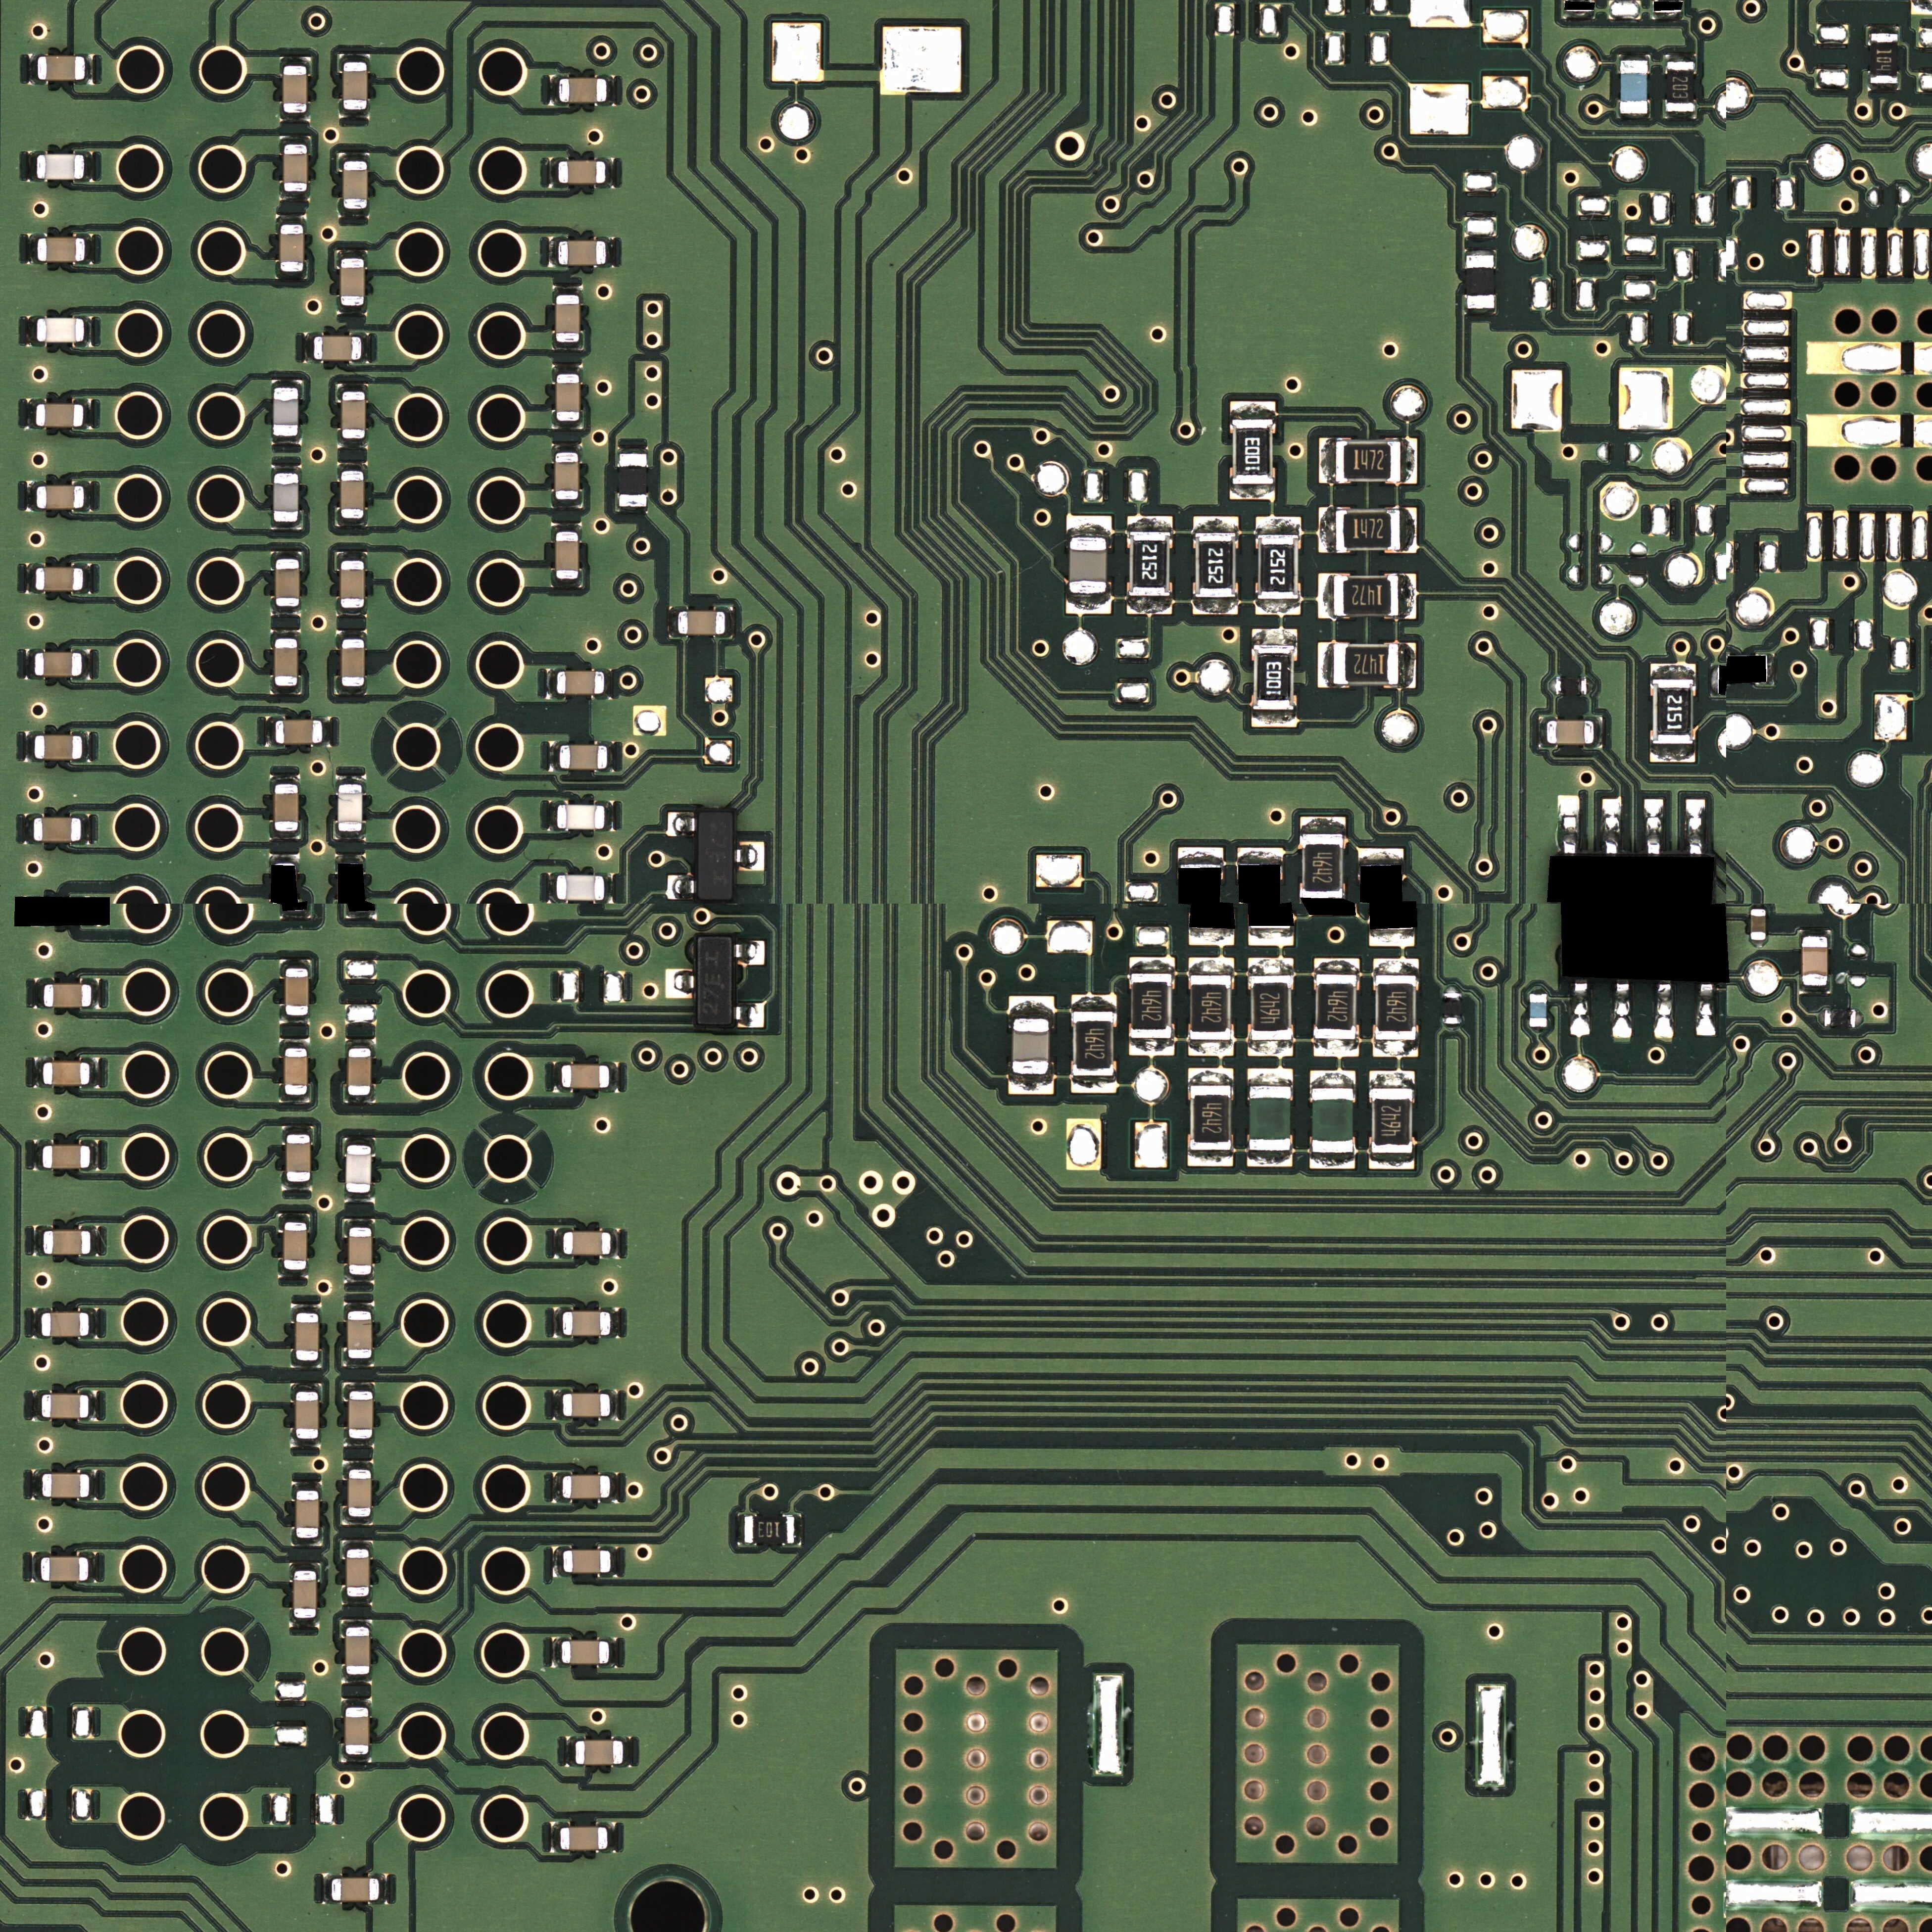Package: (697, 810, 734, 901), (697, 936, 732, 1026), (1336, 441, 1401, 483), (1231, 419, 1274, 485), (1311, 1088, 1353, 1154), (1249, 1086, 1292, 1150), (1072, 1012, 1115, 1076), (1315, 975, 1357, 1039), (1652, 679, 1693, 745), (1371, 1088, 1412, 1154), (1332, 646, 1399, 685), (1253, 646, 1293, 709), (1129, 533, 1169, 596), (1251, 977, 1292, 1040), (1189, 977, 1230, 1040), (1131, 975, 1171, 1039), (1191, 1086, 1231, 1150), (1334, 511, 1399, 550), (1258, 536, 1297, 600), (1334, 577, 1398, 616), (1196, 534, 1235, 598), (1376, 977, 1415, 1040), (1302, 835, 1341, 897), (1069, 538, 1108, 594), (1012, 1019, 1049, 1074), (617, 453, 648, 506), (1465, 255, 1495, 308), (1621, 60, 1647, 113), (745, 1516, 794, 1545), (1870, 34, 1898, 83), (1667, 62, 1695, 111), (34, 734, 83, 761), (272, 472, 299, 522), (272, 387, 299, 435), (37, 154, 85, 180), (345, 1145, 372, 1192), (556, 876, 605, 901), (41, 1313, 90, 1338), (1803, 936, 1828, 985), (35, 403, 83, 428), (340, 471, 364, 518), (559, 78, 607, 103), (341, 391, 366, 439), (559, 745, 607, 770), (678, 610, 725, 635), (557, 671, 605, 695), (557, 805, 605, 830), (37, 57, 85, 81), (37, 237, 85, 262), (340, 258, 364, 306), (274, 720, 322, 745), (35, 485, 83, 510), (283, 65, 308, 113), (556, 373, 580, 421), (34, 817, 81, 842), (343, 161, 368, 209), (280, 225, 304, 272), (340, 561, 364, 609), (557, 241, 605, 265), (313, 336, 361, 361), (338, 784, 363, 832), (274, 784, 299, 832), (343, 62, 368, 110), (42, 1062, 90, 1086), (347, 1311, 372, 1359), (44, 984, 92, 1008), (575, 1741, 623, 1766), (41, 1394, 88, 1419), (287, 1134, 311, 1182), (283, 1223, 308, 1270), (42, 1145, 90, 1169), (349, 1391, 373, 1438), (41, 1557, 88, 1582), (561, 1065, 609, 1090), (563, 1311, 610, 1336), (559, 1826, 607, 1851), (42, 1230, 90, 1254), (331, 1877, 379, 1902), (563, 1392, 610, 1417), (563, 1231, 610, 1256), (561, 1640, 609, 1665), (1546, 720, 1594, 745), (37, 318, 83, 343), (556, 295, 580, 341), (283, 145, 308, 191), (42, 1474, 88, 1499), (345, 1628, 370, 1674), (345, 1707, 370, 1753), (276, 559, 299, 607), (557, 161, 605, 184), (35, 568, 83, 591), (341, 639, 364, 686), (34, 653, 81, 676), (274, 639, 297, 686), (294, 1571, 317, 1619), (285, 968, 308, 1016), (563, 1550, 610, 1573), (563, 1476, 610, 1499), (295, 1313, 318, 1361), (556, 533, 579, 579), (556, 453, 579, 499), (349, 1470, 372, 1516), (349, 1049, 372, 1095), (285, 1049, 308, 1095), (347, 1550, 370, 1596), (295, 1491, 318, 1537), (349, 1228, 372, 1274), (295, 1392, 318, 1438), (1530, 993, 1548, 1028), (1555, 678, 1587, 695), (1824, 1010, 1856, 1028), (1444, 993, 1461, 1024), (1752, 909, 1766, 939)
Solder: (1612, 980, 1631, 1039), (1654, 982, 1674, 1040), (1559, 796, 1578, 853), (1644, 798, 1663, 855), (1601, 798, 1621, 853), (1686, 800, 1706, 855), (1571, 982, 1591, 1035), (1697, 982, 1716, 1035), (1008, 996, 1054, 1017), (1065, 594, 1111, 614), (1008, 1076, 1054, 1095), (1067, 517, 1111, 536), (665, 970, 695, 998), (1070, 1076, 1118, 1093), (1649, 745, 1697, 763), (1230, 402, 1276, 419), (1127, 596, 1173, 614), (1192, 598, 1238, 616), (1399, 573, 1417, 619), (1247, 957, 1293, 975), (1189, 957, 1235, 975), (1187, 1150, 1233, 1168), (1129, 1039, 1175, 1056), (1247, 1069, 1293, 1086), (1189, 929, 1235, 947), (1359, 847, 1405, 865), (736, 842, 764, 870), (1256, 517, 1300, 534), (1311, 1070, 1355, 1088), (1249, 929, 1293, 947), (1300, 816, 1345, 833), (1251, 711, 1299, 727), (734, 941, 764, 966), (734, 1003, 764, 1028), (1318, 437, 1334, 483), (1401, 439, 1417, 485), (1399, 642, 1415, 688), (1254, 600, 1300, 616), (1129, 957, 1175, 973), (1230, 485, 1276, 501), (1192, 517, 1238, 533), (1401, 508, 1417, 554), (1373, 959, 1419, 975), (1313, 1040, 1359, 1056), (1247, 1152, 1293, 1168), (1247, 1040, 1293, 1056), (1373, 1040, 1419, 1056), (1309, 1154, 1355, 1169), (1187, 1040, 1233, 1056), (1369, 1072, 1415, 1088), (1369, 1154, 1415, 1169), (1318, 508, 1334, 552), (1189, 1069, 1233, 1085), (1651, 663, 1695, 679), (1178, 847, 1223, 863), (1238, 847, 1283, 863), (1369, 931, 1414, 947), (667, 812, 695, 837), (667, 876, 695, 899), (1318, 642, 1332, 688), (1127, 517, 1173, 531), (1315, 959, 1361, 973), (1070, 996, 1116, 1010), (1253, 630, 1297, 644), (1318, 573, 1332, 617), (264, 717, 276, 747), (280, 134, 311, 145), (341, 1539, 373, 1550), (548, 74, 559, 106), (276, 214, 306, 225), (303, 333, 313, 363), (322, 717, 333, 747), (290, 1438, 320, 1449), (343, 1460, 373, 1470), (552, 442, 582, 453), (548, 741, 559, 771), (667, 607, 678, 637), (552, 1472, 563, 1502), (1564, 11, 1594, 21), (1663, 111, 1697, 120), (338, 209, 370, 218), (27, 398, 35, 430), (25, 731, 34, 763), (27, 563, 35, 594), (280, 1095, 311, 1104), (343, 1438, 375, 1447), (34, 1139, 42, 1171), (343, 1359, 375, 1368), (292, 1537, 324, 1546), (340, 1755, 372, 1764), (341, 1516, 373, 1525), (288, 1619, 320, 1628), (552, 421, 584, 430), (552, 580, 584, 589), (548, 800, 557, 832), (1799, 985, 1831, 994), (345, 911, 377, 920), (1709, 665, 1718, 697), (1767, 655, 1776, 686), (340, 110, 370, 119), (340, 152, 370, 161), (280, 191, 310, 200), (340, 53, 370, 62), (361, 333, 370, 363), (28, 53, 37, 83), (338, 439, 368, 448), (28, 234, 37, 264), (27, 315, 35, 345), (336, 775, 366, 784), (271, 607, 301, 616), (336, 630, 366, 639), (336, 686, 366, 695), (25, 814, 34, 844), (334, 832, 364, 840), (271, 686, 301, 695), (271, 775, 301, 784), (271, 630, 301, 639), (336, 518, 366, 527), (27, 481, 35, 511), (345, 1219, 375, 1228), (345, 1095, 375, 1104), (345, 1039, 375, 1047), (280, 1016, 310, 1024), (283, 1125, 313, 1134), (345, 1192, 375, 1201), (292, 1304, 322, 1313), (345, 1382, 375, 1391), (281, 1182, 311, 1191), (280, 1039, 310, 1047), (34, 1226, 42, 1256), (278, 1270, 308, 1279), (343, 1302, 373, 1311), (341, 1619, 372, 1628), (292, 1481, 322, 1490), (380, 1874, 389, 1904), (290, 1562, 320, 1571), (32, 1552, 41, 1582), (322, 1874, 331, 1904), (341, 1698, 372, 1707), (552, 364, 582, 373), (552, 285, 582, 294), (548, 237, 557, 267), (548, 157, 557, 188), (552, 522, 582, 531), (547, 669, 556, 699), (605, 801, 614, 832), (547, 872, 556, 902), (554, 1389, 563, 1419), (554, 1307, 563, 1338), (554, 1228, 563, 1258), (610, 1307, 619, 1338), (610, 1230, 619, 1260), (554, 1546, 563, 1576), (552, 1637, 561, 1667), (736, 1514, 745, 1545), (550, 1822, 559, 1852), (1594, 717, 1603, 747), (1537, 717, 1546, 747), (271, 853, 301, 862), (336, 855, 366, 863), (281, 911, 311, 920), (1654, 12, 1684, 21), (272, 379, 301, 387), (338, 306, 366, 315), (281, 57, 310, 65), (338, 462, 366, 471), (338, 249, 366, 258), (338, 382, 366, 391), (338, 552, 366, 561), (281, 959, 310, 968), (272, 550, 301, 559), (280, 1214, 308, 1223), (725, 609, 734, 637), (623, 1737, 632, 1766), (566, 1737, 575, 1766), (1667, 53, 1695, 62), (552, 343, 586, 350), (85, 398, 92, 430), (271, 522, 303, 529), (83, 731, 90, 763), (343, 1276, 375, 1283), (607, 74, 614, 106), (552, 501, 584, 508), (605, 872, 612, 904), (610, 1062, 617, 1093), (1619, 113, 1651, 120), (280, 113, 310, 120), (276, 272, 306, 280), (271, 465, 301, 472), (271, 437, 301, 444), (85, 150, 92, 180), (85, 317, 92, 347), (85, 234, 92, 264), (28, 150, 35, 180), (336, 609, 366, 616), (81, 814, 88, 844), (271, 832, 301, 839), (83, 649, 90, 679), (27, 649, 34, 679), (35, 1058, 42, 1088), (34, 1391, 41, 1421), (35, 978, 42, 1008), (345, 1138, 375, 1145), (292, 1361, 322, 1368), (34, 1307, 41, 1338), (90, 1391, 97, 1421), (90, 1309, 97, 1339), (90, 1058, 97, 1088), (92, 978, 99, 1008), (90, 1141, 97, 1171), (34, 1468, 41, 1499), (341, 1598, 372, 1605), (88, 1552, 96, 1582), (341, 1675, 372, 1683), (617, 446, 648, 453), (607, 237, 614, 267), (617, 508, 648, 515), (610, 1391, 617, 1421), (554, 1062, 561, 1092), (794, 1514, 801, 1545), (609, 1822, 616, 1852), (610, 1472, 617, 1502), (610, 1546, 617, 1576), (1619, 53, 1649, 60), (1868, 25, 1898, 32), (1868, 83, 1898, 90), (1465, 310, 1495, 317), (1799, 929, 1829, 936), (85, 55, 92, 83), (83, 564, 90, 593), (292, 1384, 320, 1391), (1529, 984, 1548, 993), (1529, 1028, 1548, 1037), (607, 157, 612, 189), (85, 481, 90, 511), (92, 1226, 97, 1256), (609, 741, 614, 771), (605, 669, 610, 699), (1465, 249, 1495, 255), (90, 1470, 96, 1499), (610, 1638, 616, 1667), (1752, 939, 1767, 948), (1587, 678, 1594, 695), (1548, 678, 1555, 695), (1856, 1010, 1863, 1028), (1444, 985, 1461, 993), (1444, 1024, 1461, 1030), (1750, 904, 1767, 909), (1819, 1010, 1824, 1026)
